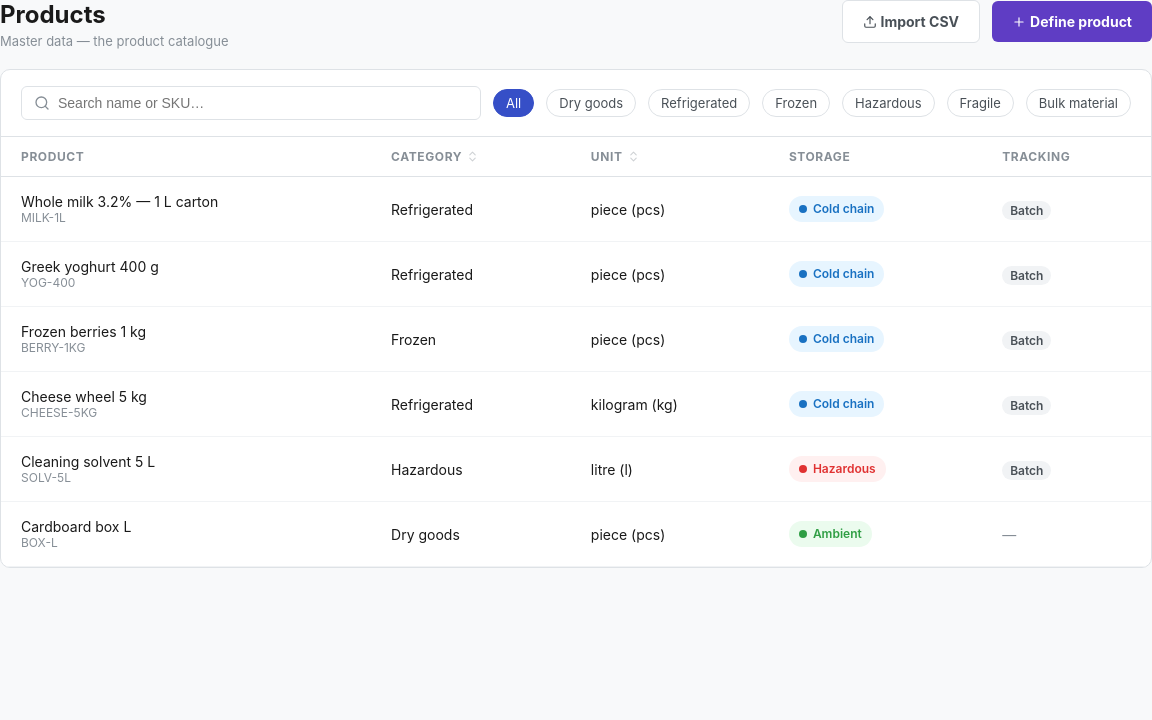
Test: ProductCatalogScreen › opens the define dialog
Expected: the text "Whole milk 3.2% — 1 L carton" is shown, [21,193,218,210]
Click the button "Define product" at (1072, 22), box [992,1,1151,42]
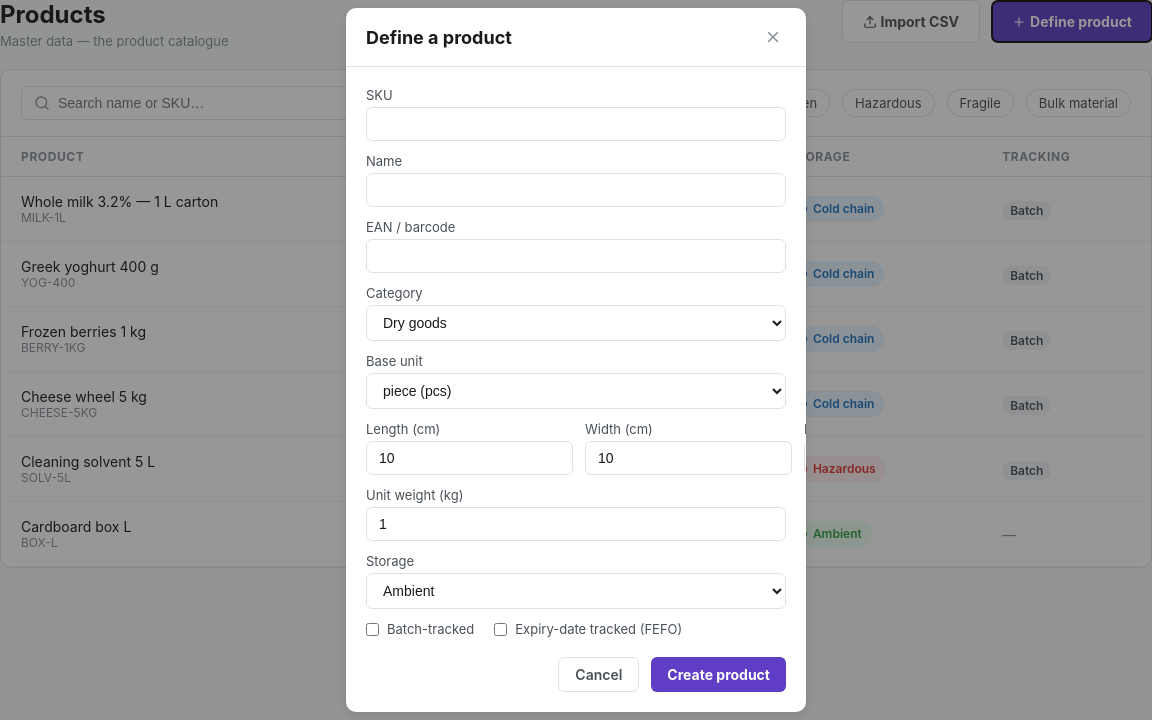
Expected: the heading "Define a product" is shown, [366,26,512,48]
Expected: the button "Create product" is shown, [651,657,786,692]
